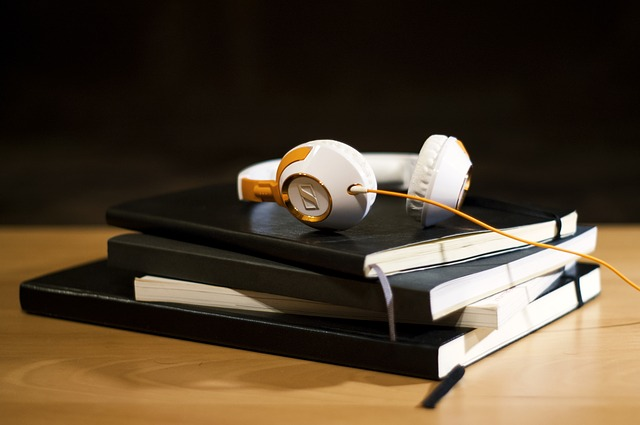headphones: (238, 135, 473, 232)
